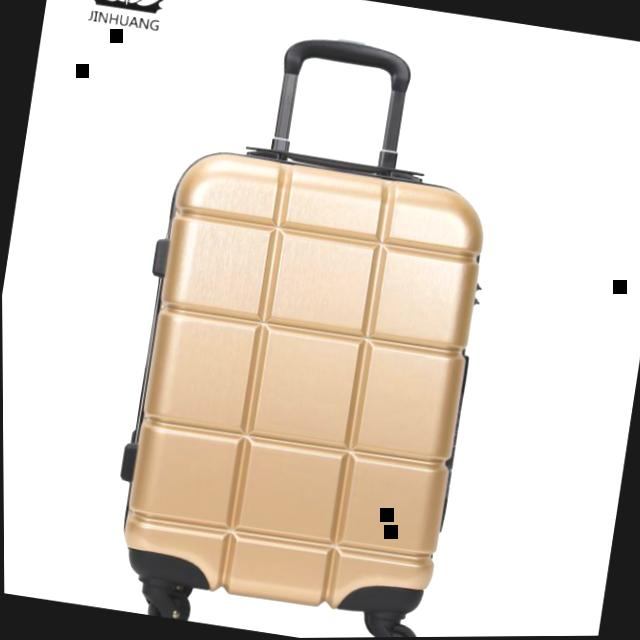luggage: (93, 120, 509, 635)
